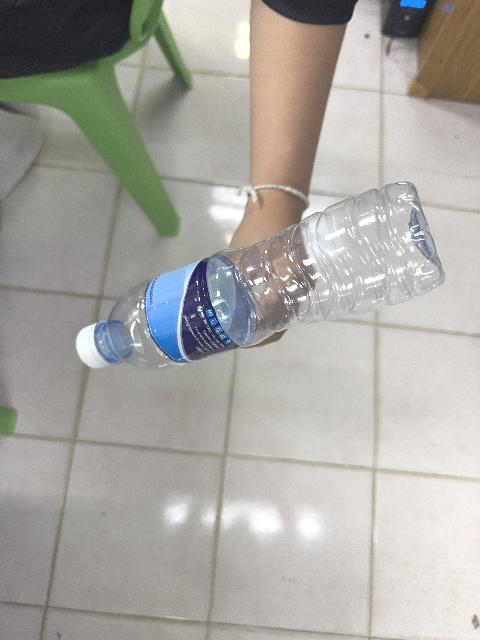bottle: (76, 183, 443, 368)
